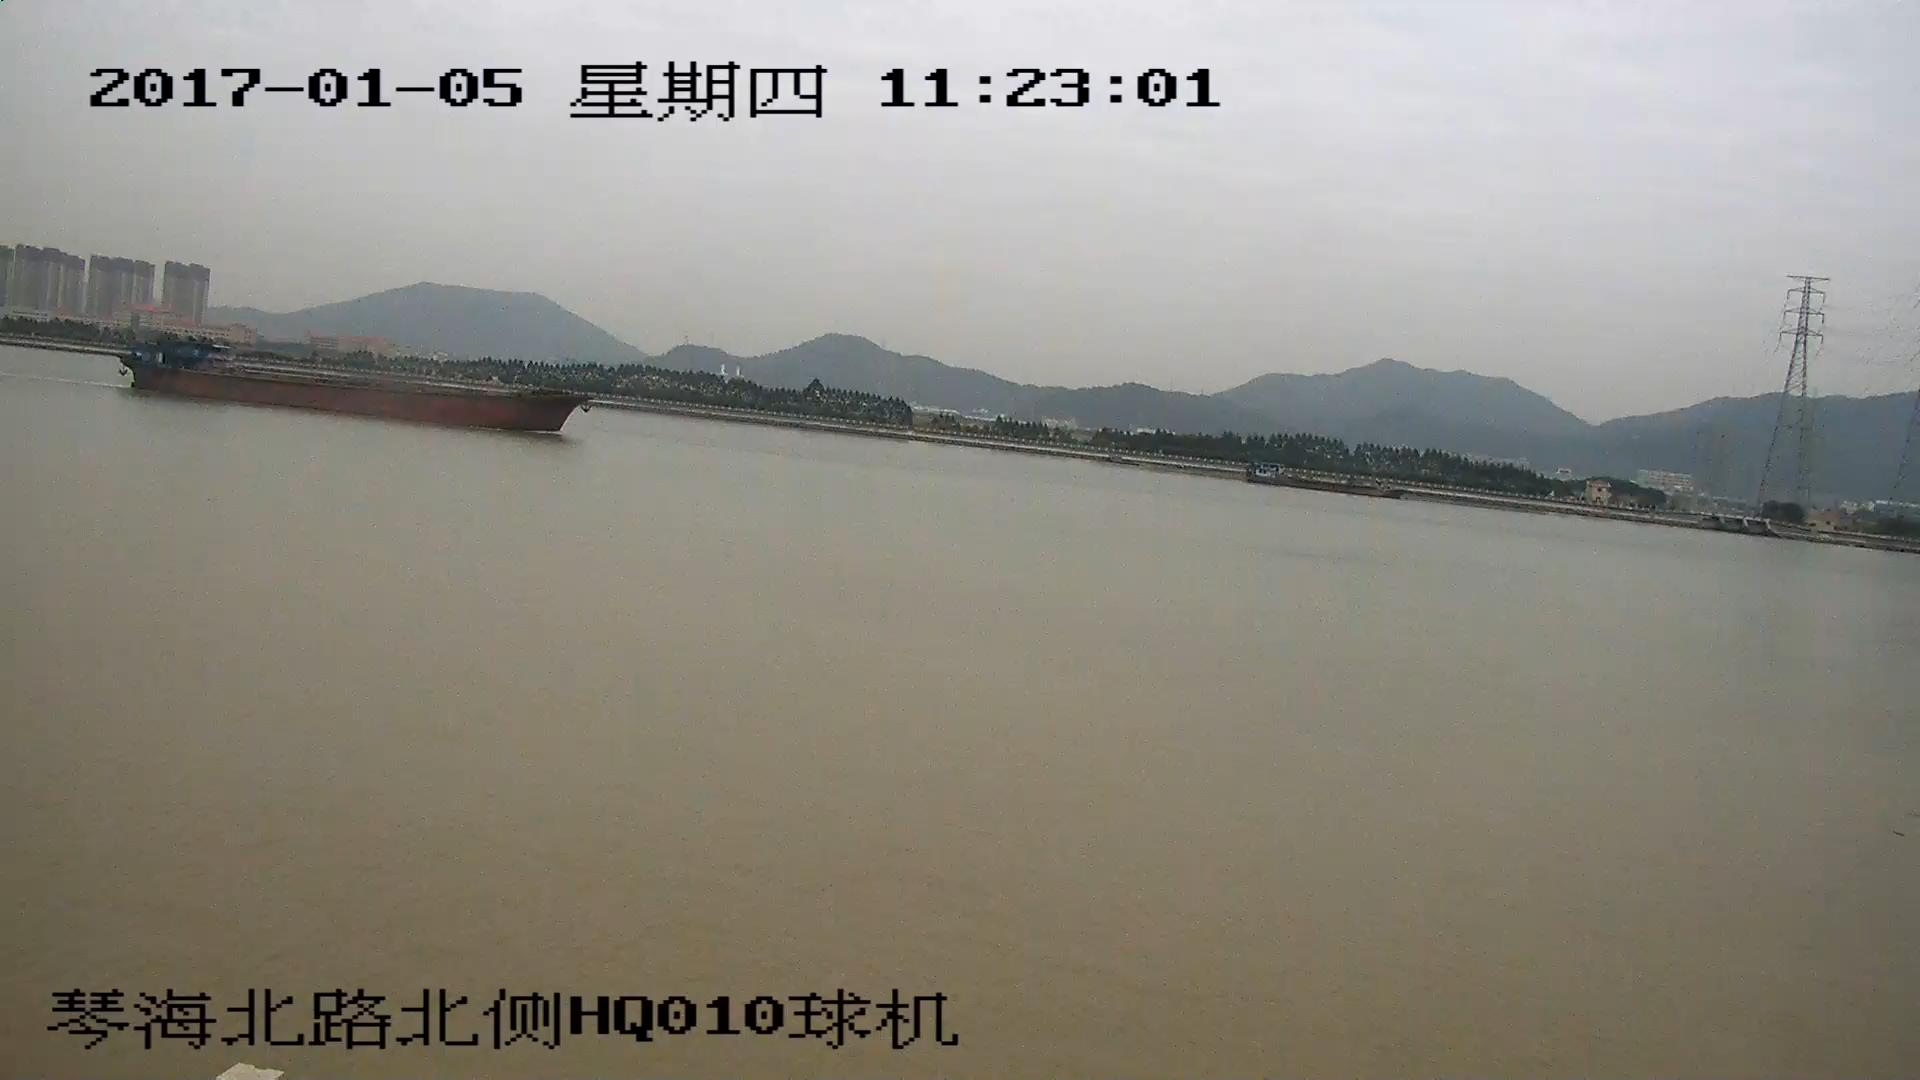bulk cargo carrier: (126, 329, 589, 433)
